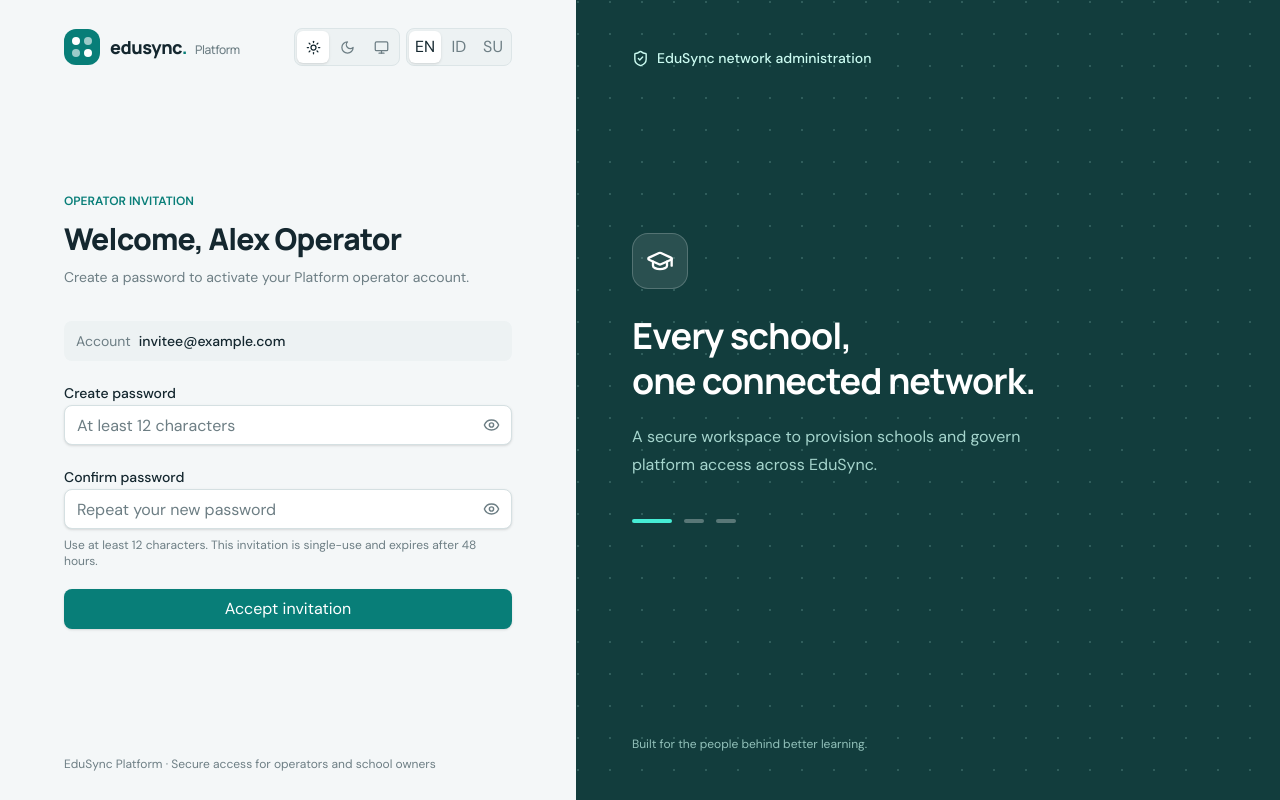
Test case: Public account flows › refuses a mistyped password confirmation without burning the single-use invitation
Expected: the text "invitee@example.com" is shown, [139, 332, 285, 350]
Type "valid-password-123" into the password field labelled "Create password".
click(288, 425); type("valid-password-123")  # box [64, 405, 512, 445]
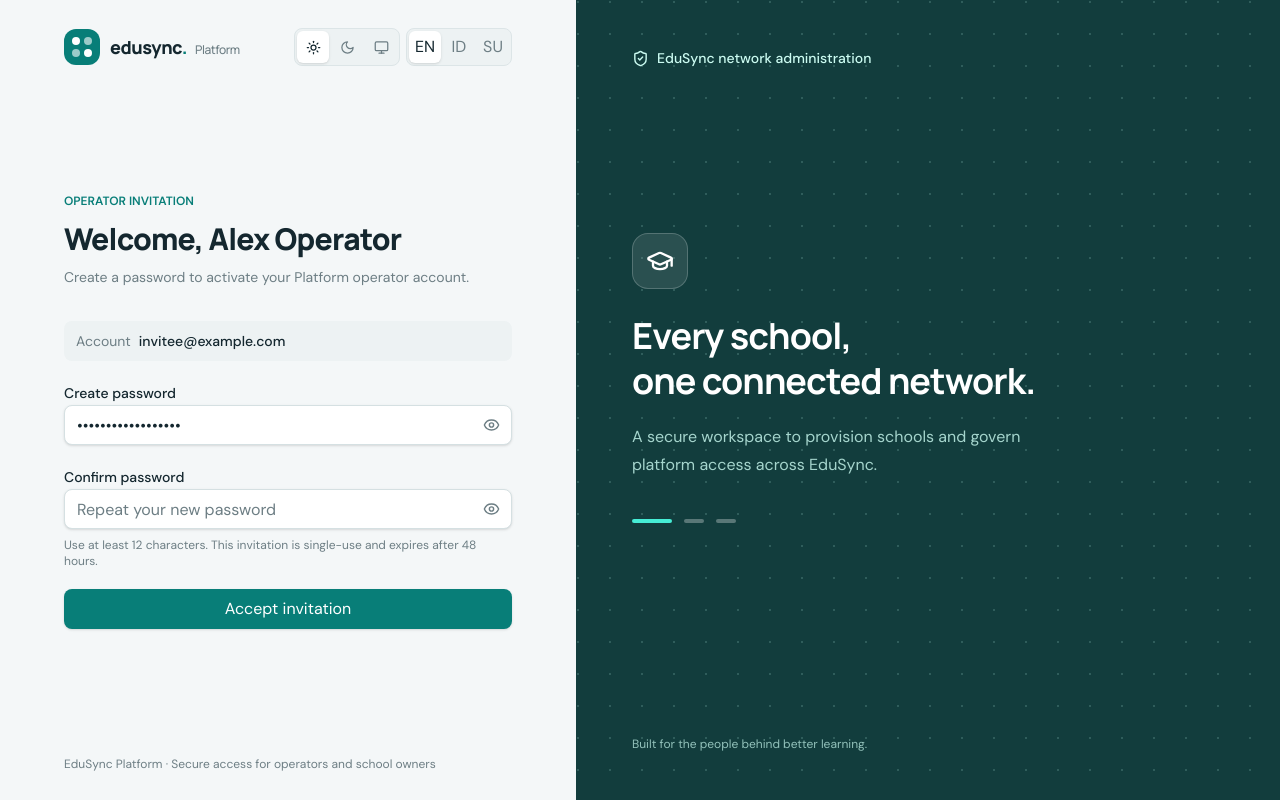
Type "valid-password-124" into the password field labelled "Confirm password".
click(288, 509); type("valid-password-124")  # box [64, 489, 512, 529]
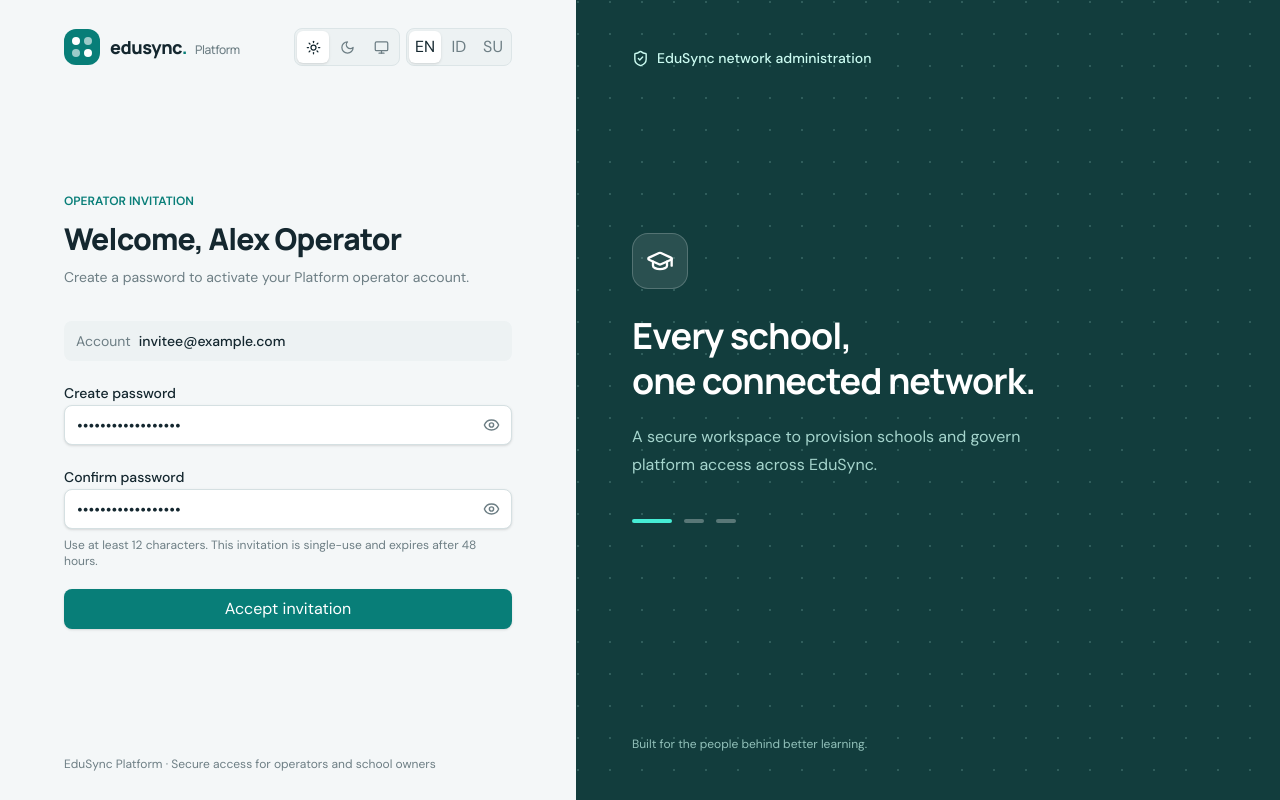
Click the button "Accept invitation".
click(288, 609)  # box [64, 589, 512, 629]
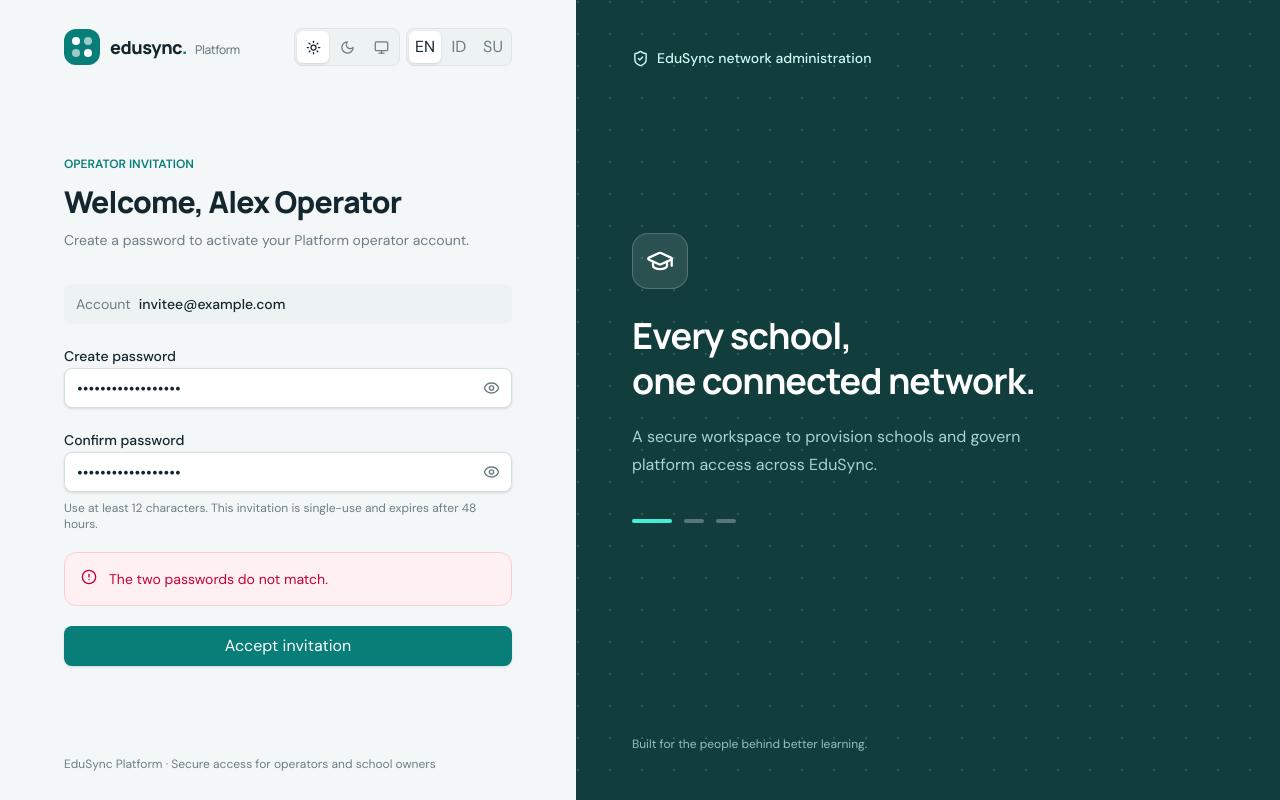
Expected: the text "The two passwords do not match." is shown, [109, 570, 328, 588]
